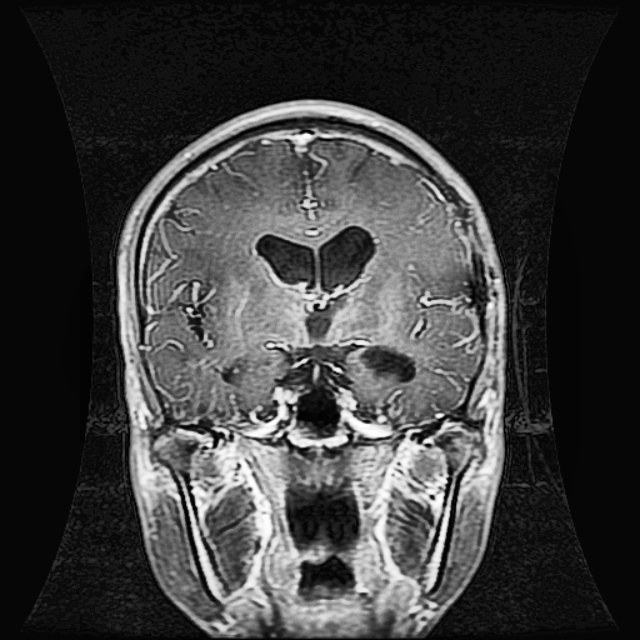Glioma: (363, 345, 420, 382)
